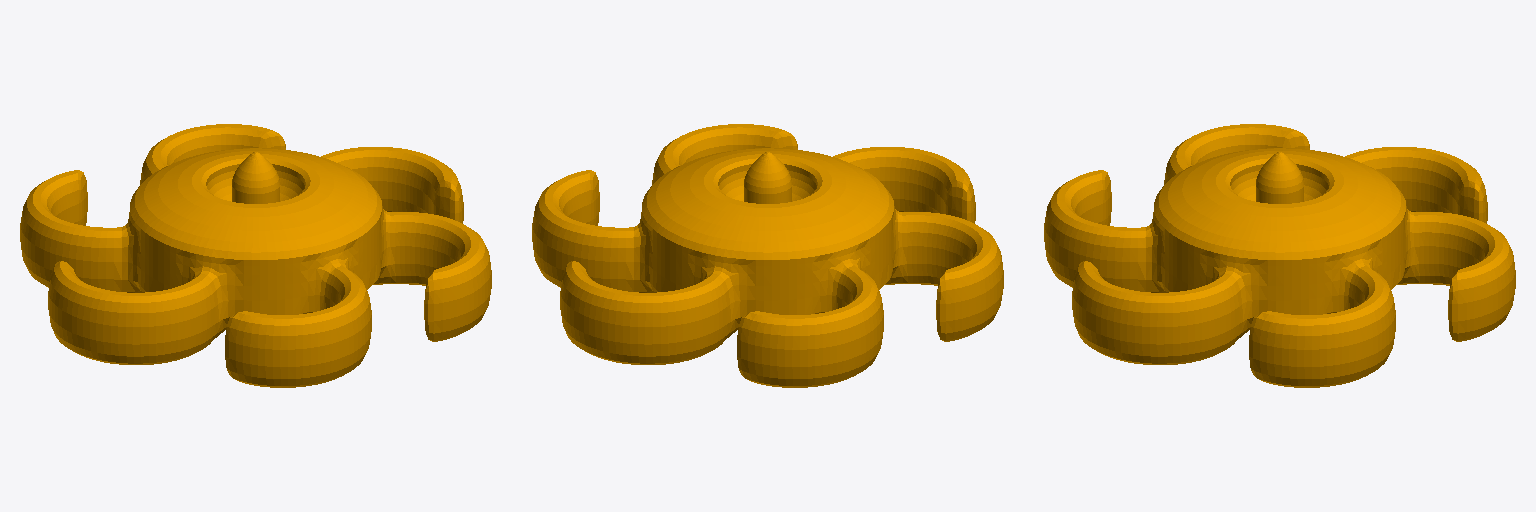
URDF robot description (pendant):
<robot name="pendant">
  <link name="pendant">
    <inertial>
      <origin xyz="0 0 0.0145"/>
      <mass value="0.1" />
      <inertia  ixx="0.0001" ixy="0.0"  ixz="0.0"  iyy="0.0001"  iyz="0.0"  izz="0.0001" />
    </inertial>
    <visual>
      <origin xyz="0 0 0.0145"/>
      <geometry>        
     <mesh filename="pendant.dae" scale="1 1 1"/>
    </geometry>
    </visual>
    <collision>
      <origin xyz="0 0 0.0145"/>
      <geometry>
        <box size="0.029 0.029 0.029"/>
      </geometry>
    </collision>
  </link>
  <gazebo reference="pendant">
    <material>Gazebo/Blue</material>
  </gazebo>
</robot>

--- Facts derived from the render (not from the file) ---
Views: 3 orthographic renders of the robot side by side, from view 1: azimuth 30°, elevation 25°; view 2: azimuth 150°, elevation 25°; view 3: azimuth 270°, elevation 25°.
Model pendant with 1 links and 0 joints (none), rooted at pendant, posed all joints at 0.
Visible links, largest first — view 1: pendant; view 2: pendant; view 3: pendant.
Link boxes in pixels (left/top/right/bottom): pendant: left=20, top=124, right=491, bottom=387; pendant: left=532, top=124, right=1003, bottom=387; pendant: left=1044, top=124, right=1515, bottom=387.
Bounding box of the posed robot: 0.1715 × 0.1666 × 0.0544 m (x, y, z).
Meshes: 1 distinct files referenced, 1 mesh visuals loaded (1 Collada DAE).